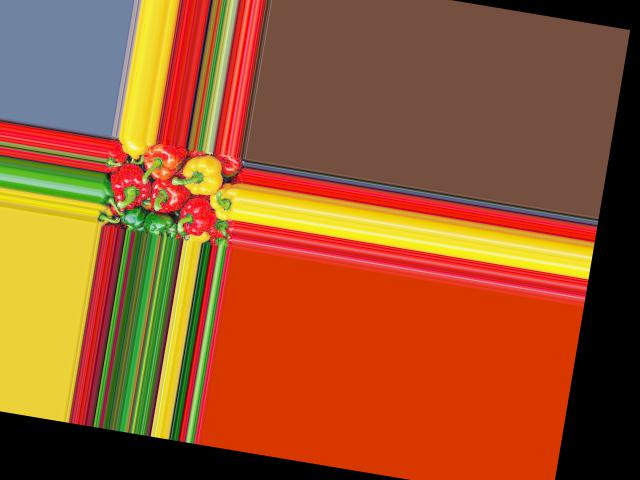bell_pepper: (120, 137, 146, 159)
